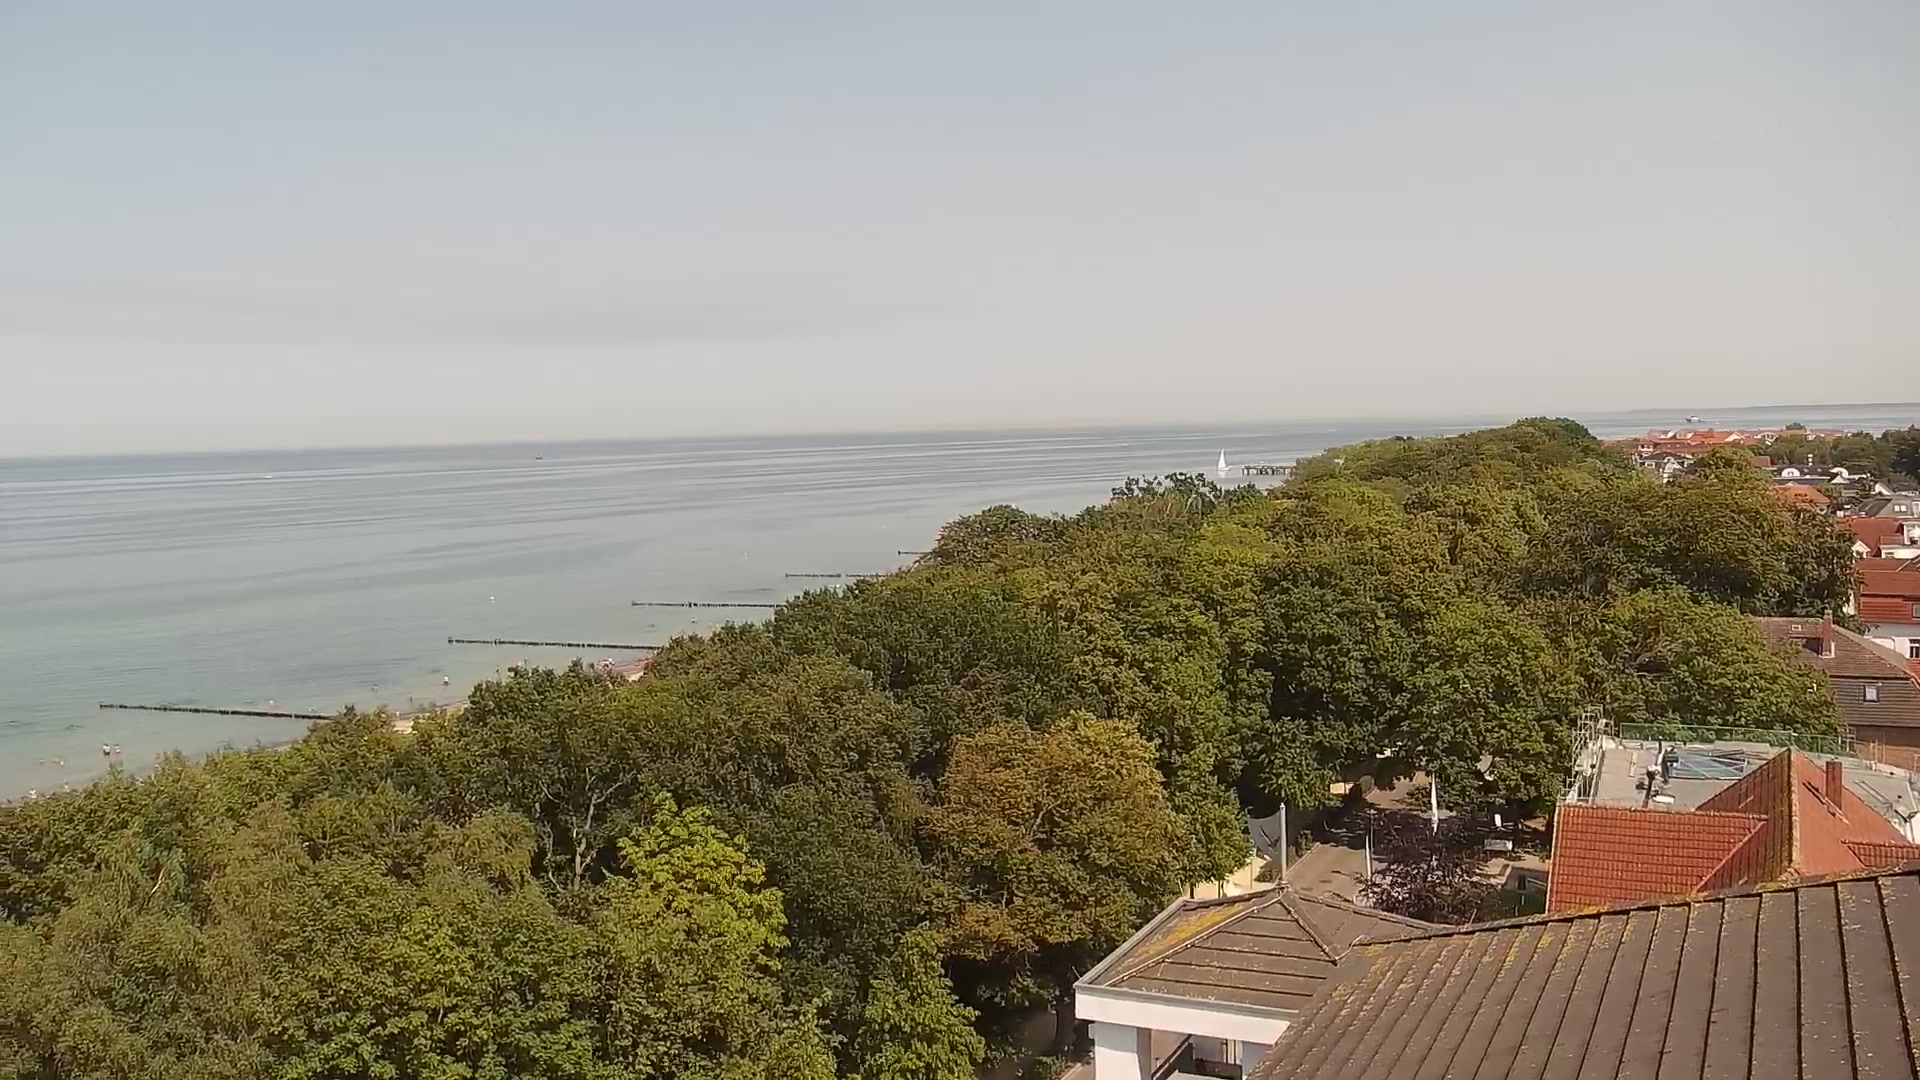human: (27, 786, 37, 798), (101, 742, 111, 755), (113, 742, 122, 755), (370, 683, 379, 693), (443, 674, 449, 687)
sea: (1214, 446, 1231, 471), (1683, 414, 1704, 424), (534, 448, 544, 459), (630, 597, 640, 606)
